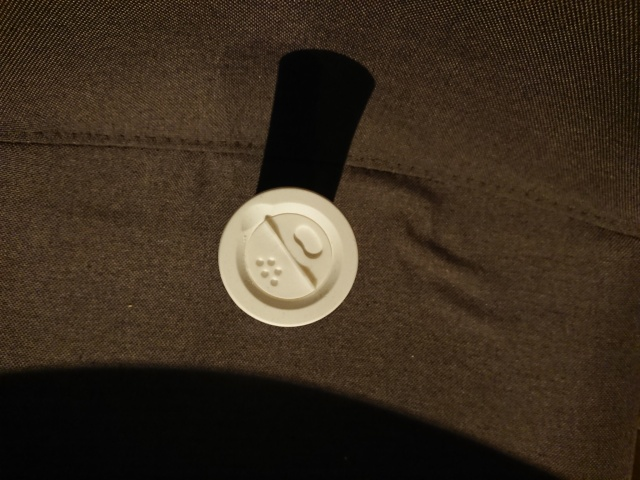Solana Pag Fine Sea Salt 250g: (211, 184, 362, 332)
